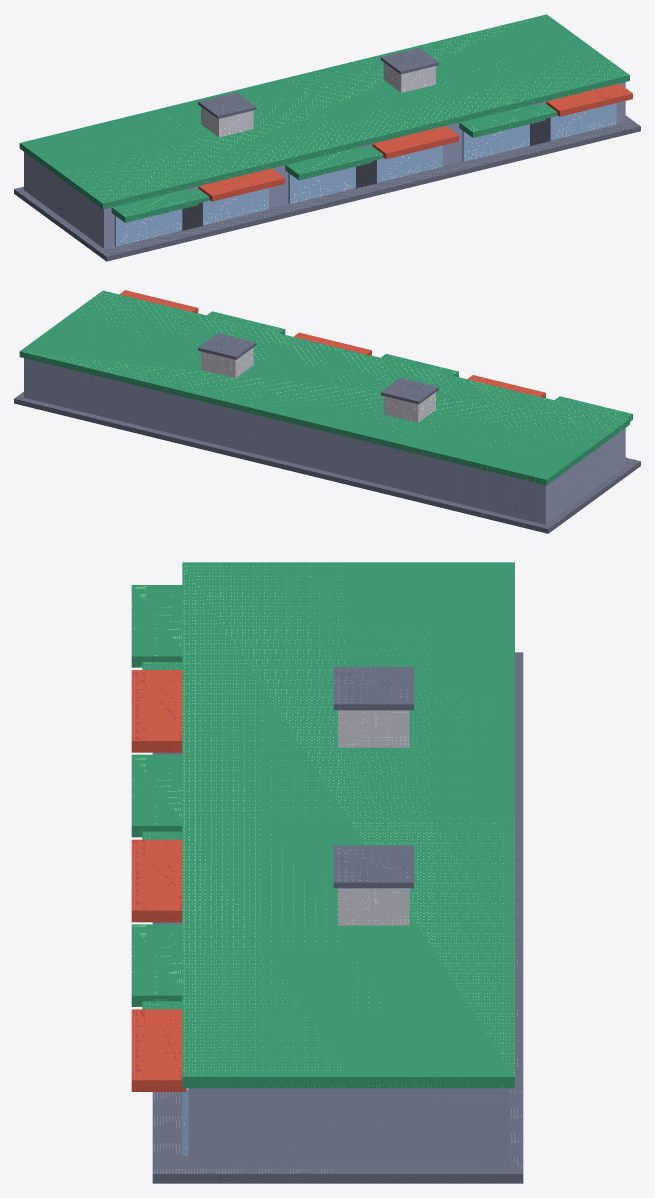
The model's file is com-3x1-l1.glb.
The picture shows the model from 3 angles, top to bottom: view 1: azimuth 30°, elevation 25°; view 2: azimuth 150°, elevation 25°; view 3: azimuth 270°, elevation 25°; orthographic projection. The views are drawn at different scales.
Parts seen in each view (by area): view 1: com-3x1-l1; view 2: com-3x1-l1; view 3: com-3x1-l1.
Boxes of the visible parts, x1=… form: com-3x1-l1: x1=14, y1=14, x2=640, y2=261; com-3x1-l1: x1=14, y1=290, x2=640, y2=533; com-3x1-l1: x1=131, y1=562, x2=523, y2=1183.
Size of the model in its own units: 5.86 by 0.775 by 1.86.
1 material, 1 textured.
